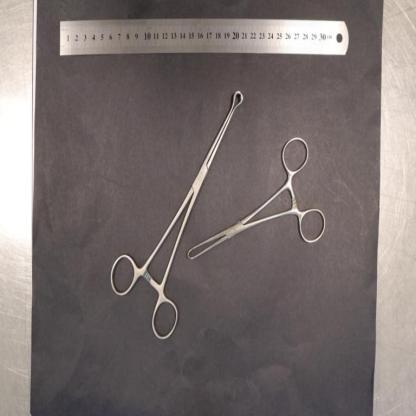8 Babcock Tissue Forceps: (108, 91, 244, 342)
Allis Tissue Forceps: (187, 133, 328, 261)
